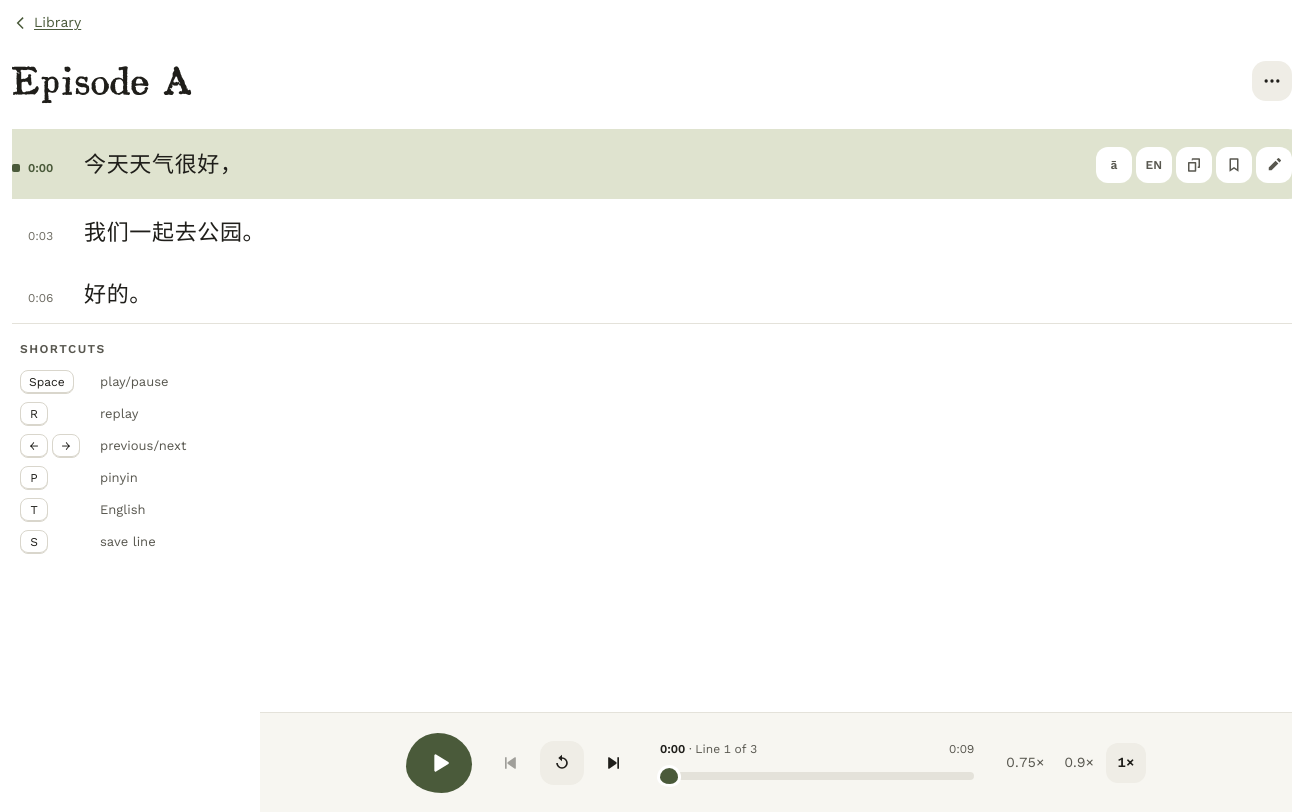
Test: local English — submitting a line › ignores repeated taps while a line is pending
Click the button "EN".
click(1154, 165)  # box x1=1136 y1=147 x2=1172 y2=183
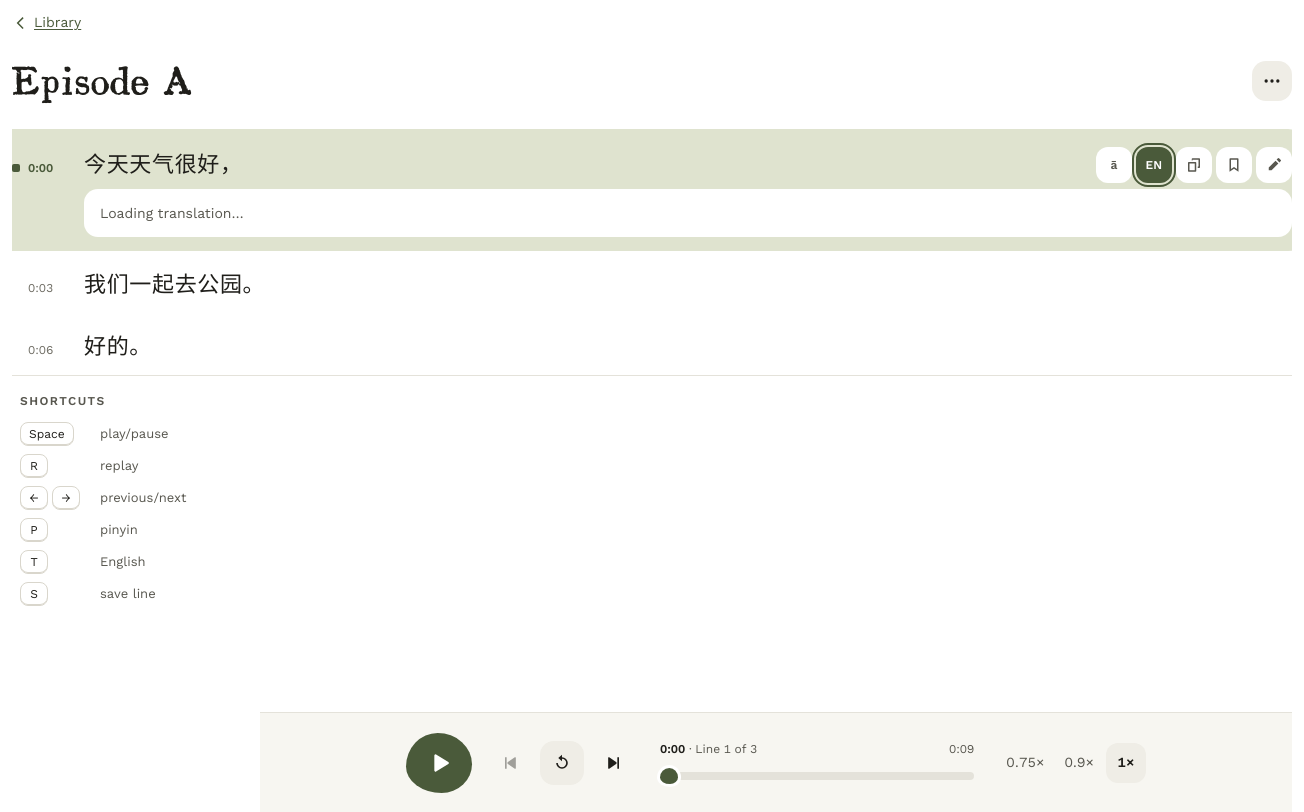
Check: the text "Loading translation…" is shown, box x1=100 y1=205 x2=244 y2=221
Click the button "EN".
click(1154, 165)  # box x1=1136 y1=147 x2=1172 y2=183
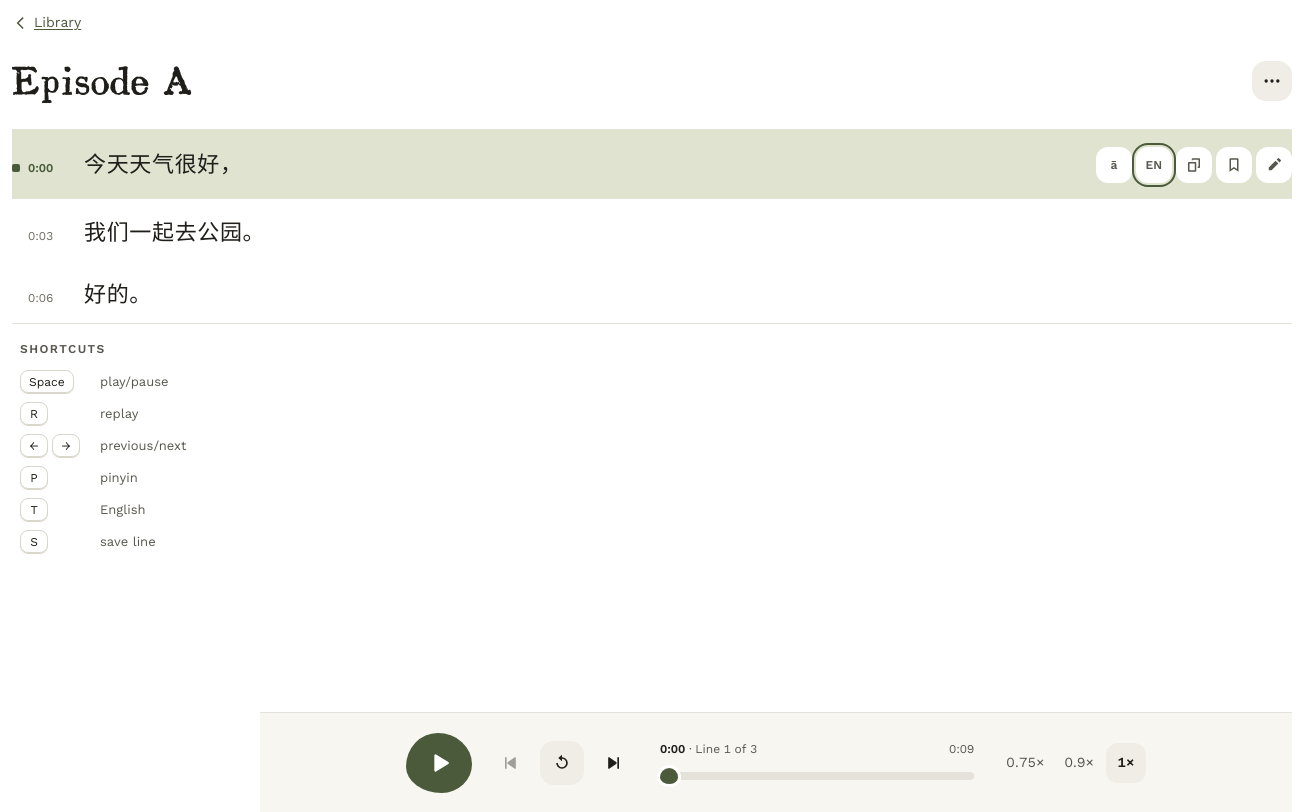
Click the button "EN".
click(1154, 165)  # box x1=1136 y1=147 x2=1172 y2=183
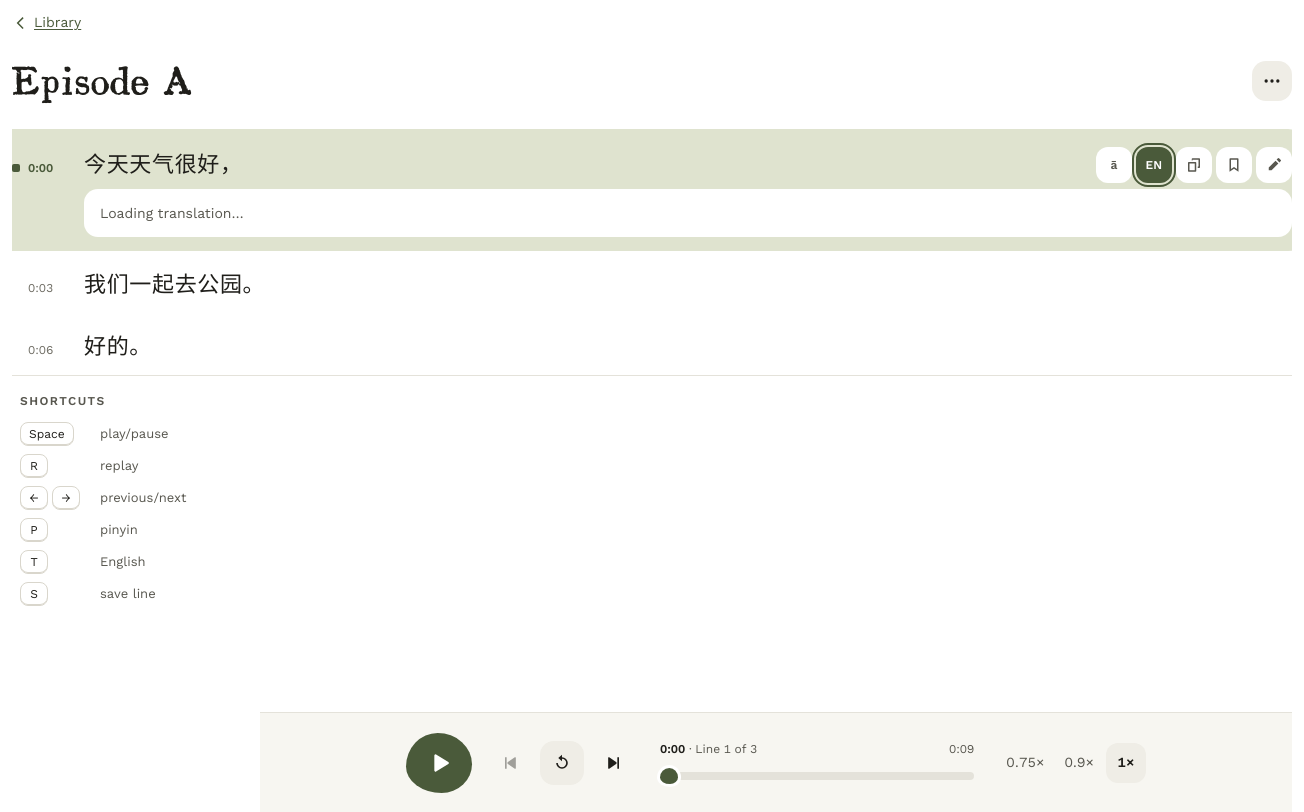
Type keys "t"
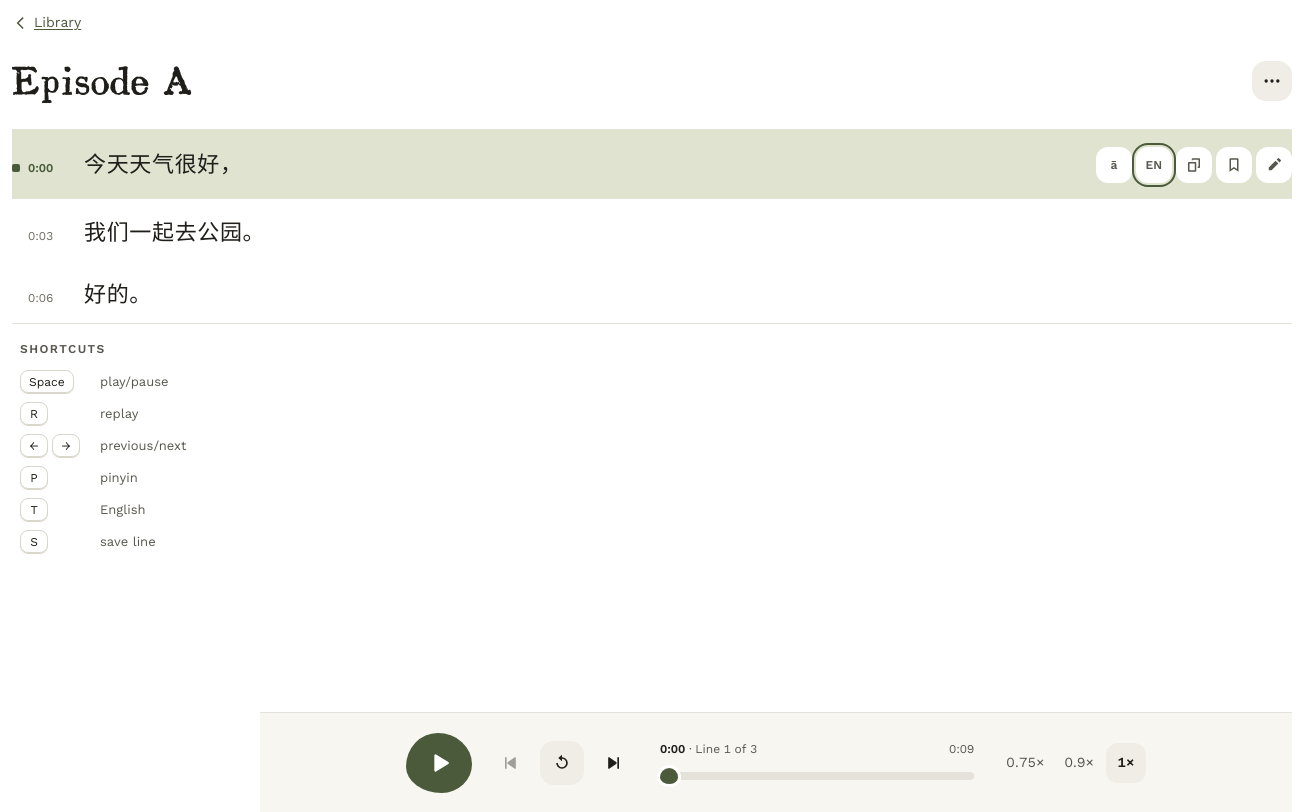
Type keys "t"
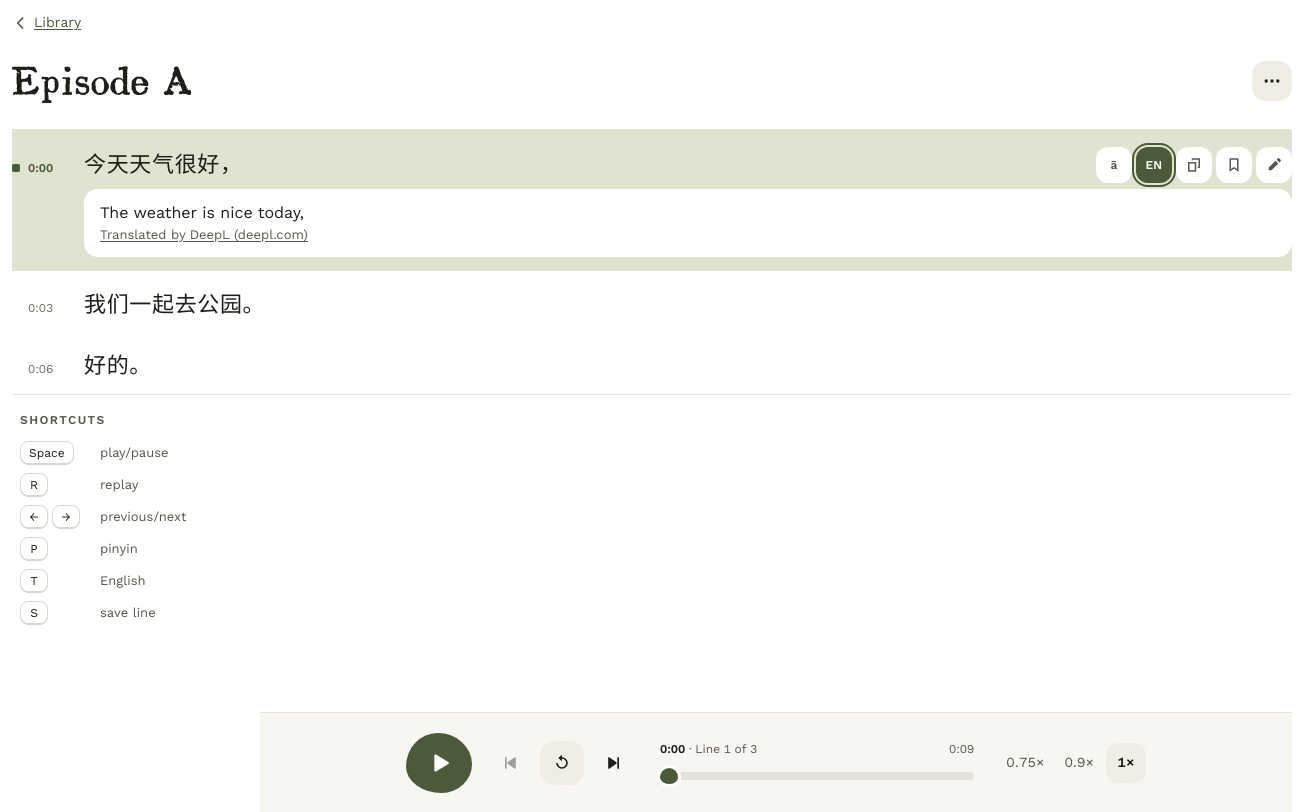
Check: the text "The weather is nice today," is shown, box x1=100 y1=203 x2=304 y2=222
